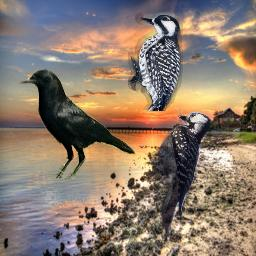Crow: (18, 69, 136, 180)
Woodpecker: (149, 106, 211, 243), (128, 11, 183, 111)
